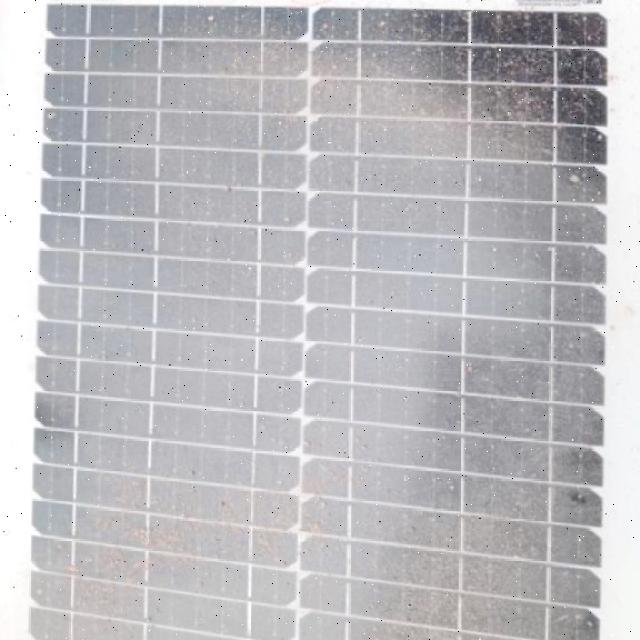Anomaly Solar Panel: (0, 0, 640, 640)
Surface Contaminant: (21, 0, 622, 640)
